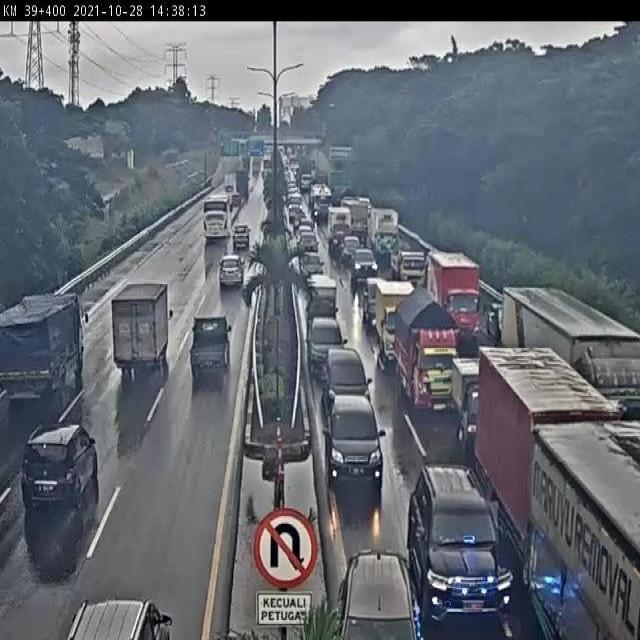big bus: (206, 196, 229, 236)
big truck: (480, 347, 634, 557), (529, 428, 640, 640), (501, 288, 640, 424), (0, 279, 88, 429), (111, 262, 169, 389), (394, 295, 456, 401), (428, 255, 480, 336), (376, 283, 418, 361)
car: (419, 458, 506, 622), (11, 415, 100, 532), (339, 537, 418, 640), (332, 388, 396, 492), (64, 580, 168, 640), (180, 299, 237, 400), (322, 348, 386, 428), (301, 316, 357, 363), (219, 249, 249, 288), (232, 223, 255, 252)
